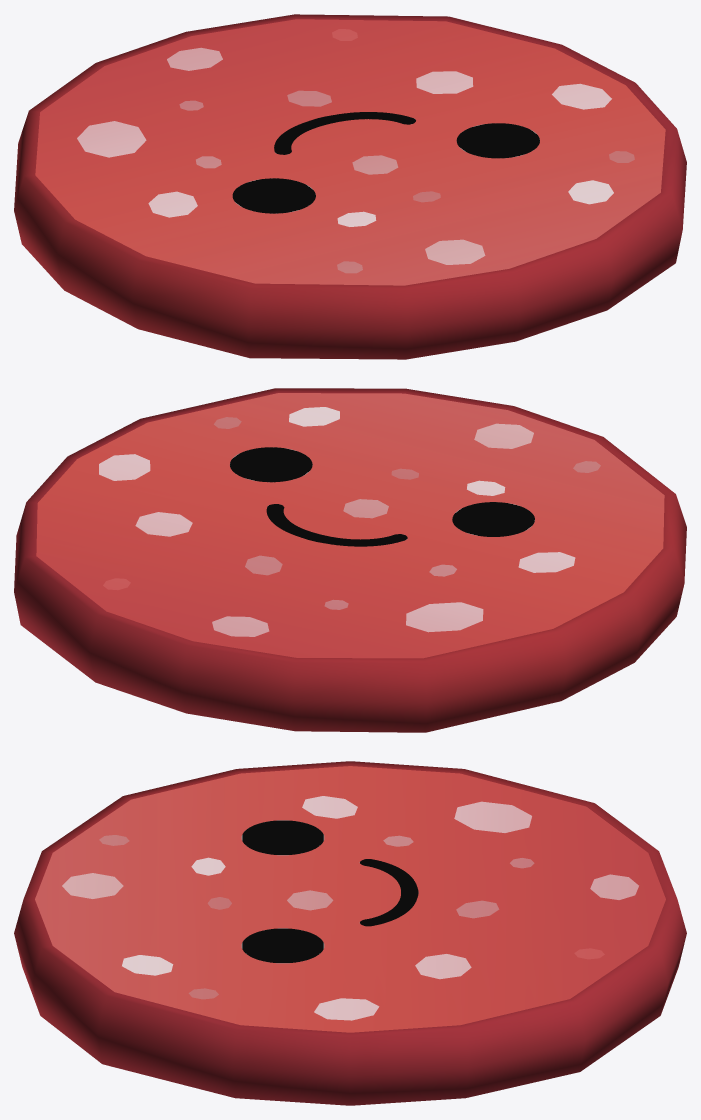
File: salami_slice_smile.fbx
3 views of the same model, one above another, from view 1: azimuth 30°, elevation 25°; view 2: azimuth 150°, elevation 25°; view 3: azimuth 270°, elevation 25° (orthographic).
Parts seen in each view (by area): view 1: salami_slice_smile; view 2: salami_slice_smile; view 3: salami_slice_smile.
Boxes of the visible parts, x1,y1,x2,y2 form: salami_slice_smile: [14, 14, 686, 359]; salami_slice_smile: [14, 388, 686, 732]; salami_slice_smile: [14, 761, 686, 1105].
Size of the model in its own units: 16.48 by 16.48 by 2.06.
Materials: 2 (2 with a texture image).
